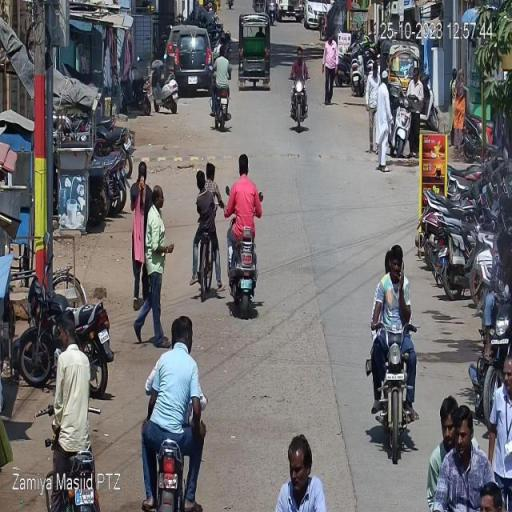using mobile: (393, 251, 408, 292)
